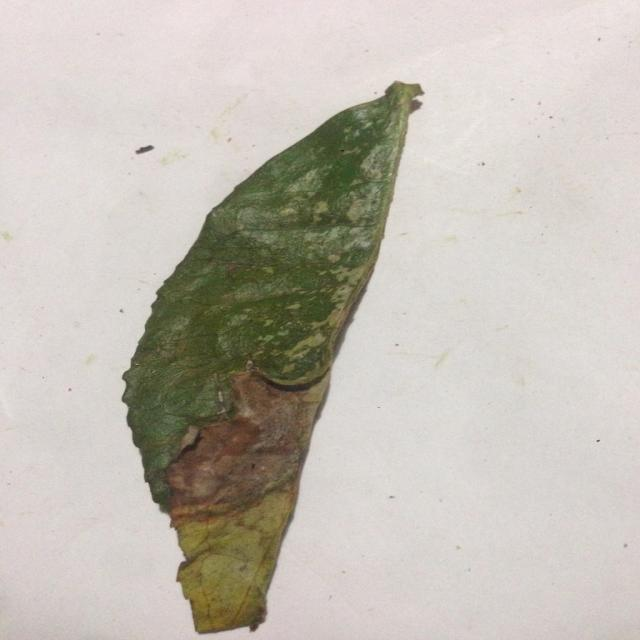Red Leaf Spot: (120, 80, 454, 640)
